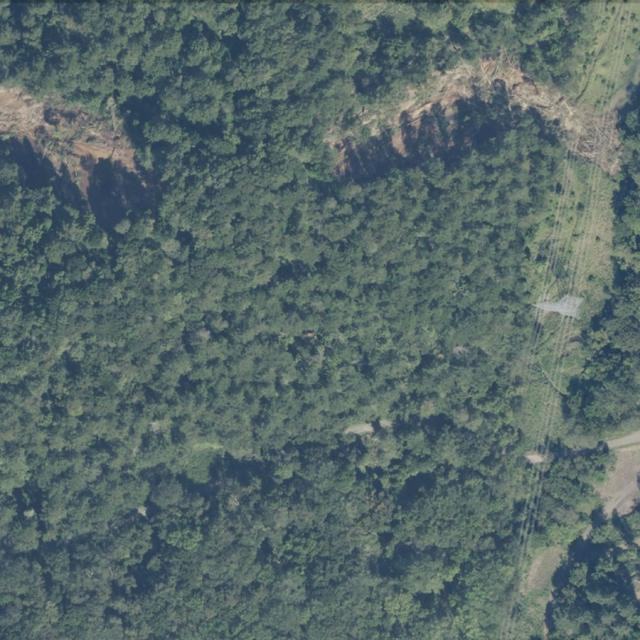landslide: (0, 85, 149, 227), (383, 67, 509, 153), (520, 76, 589, 146)
